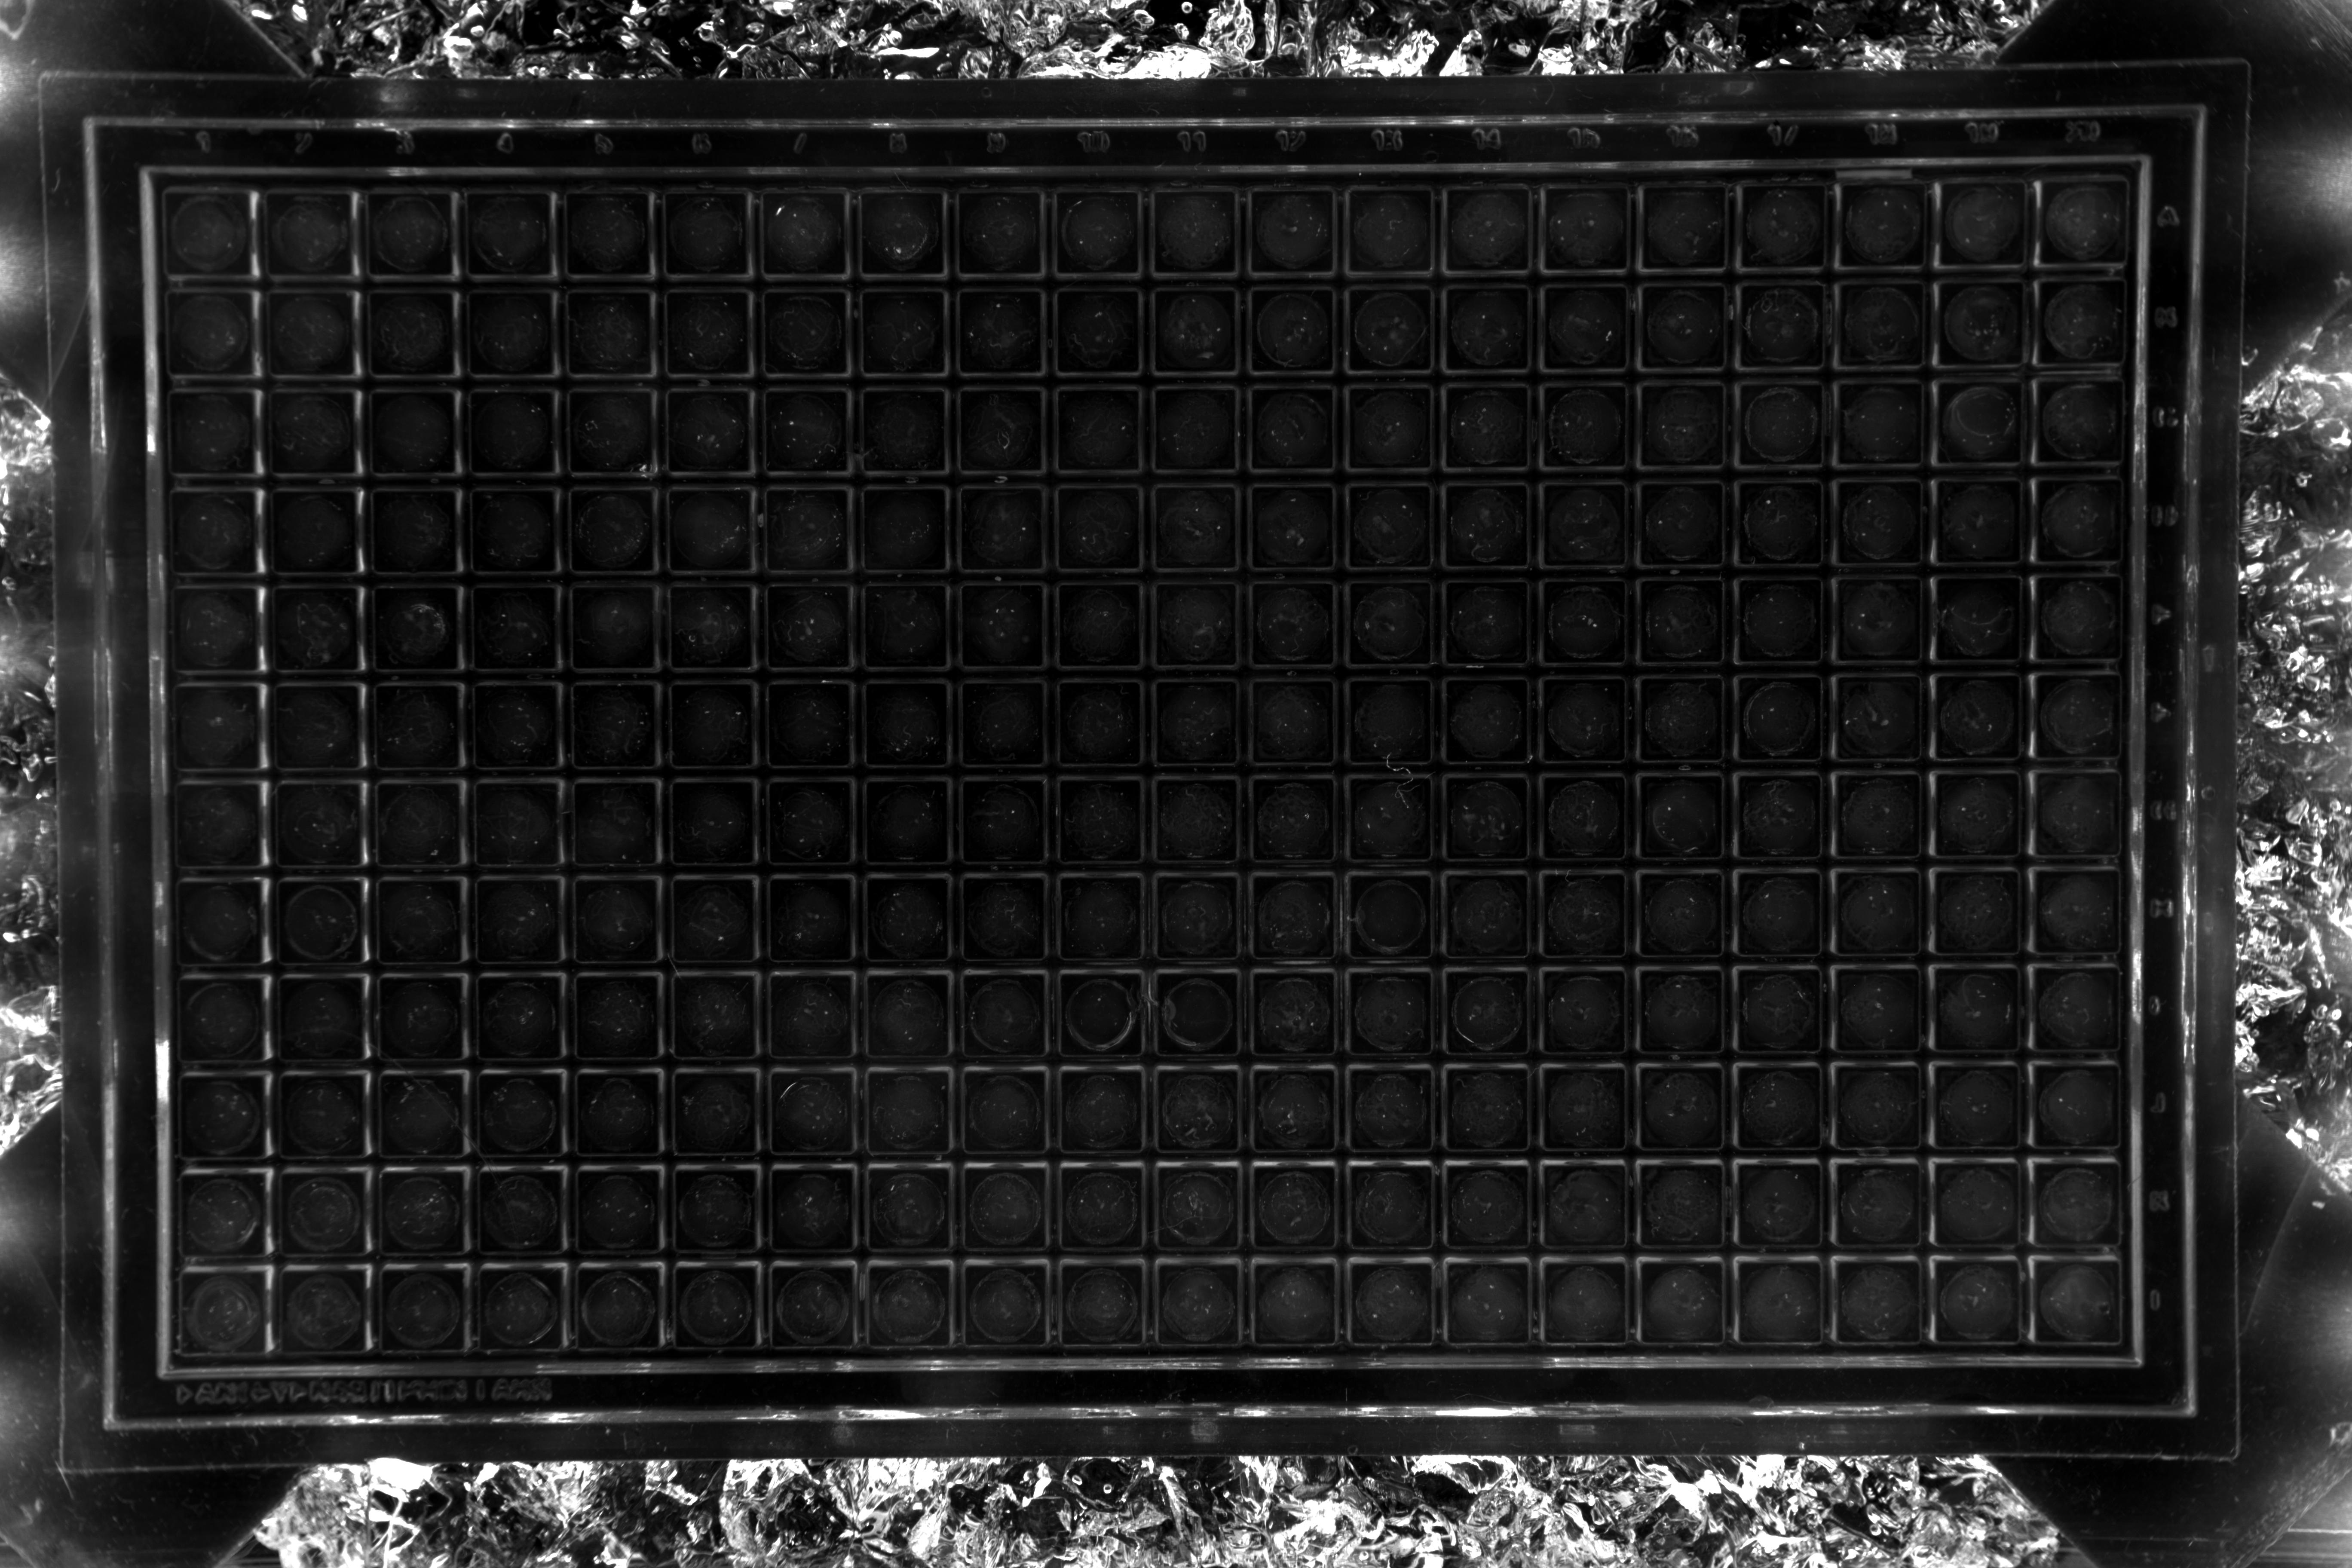WM_well: (789, 1018, 878, 1106), (194, 336, 282, 423), (205, 1218, 292, 1305), (294, 338, 381, 425), (303, 829, 390, 917), (303, 1022, 390, 1109), (392, 338, 479, 425), (693, 1018, 780, 1106), (693, 1116, 780, 1204), (693, 1213, 780, 1300), (1176, 240, 1263, 327), (1176, 726, 1263, 814), (1176, 920, 1263, 1008), (1370, 822, 1458, 910), (1372, 138, 1459, 226), (1468, 532, 1556, 619), (1561, 1211, 1648, 1298), (1564, 822, 1652, 910), (1568, 234, 1655, 322), (1662, 822, 1750, 910), (1662, 726, 1750, 814), (1666, 332, 1753, 420), (1760, 724, 1848, 812), (1963, 229, 2051, 317)
